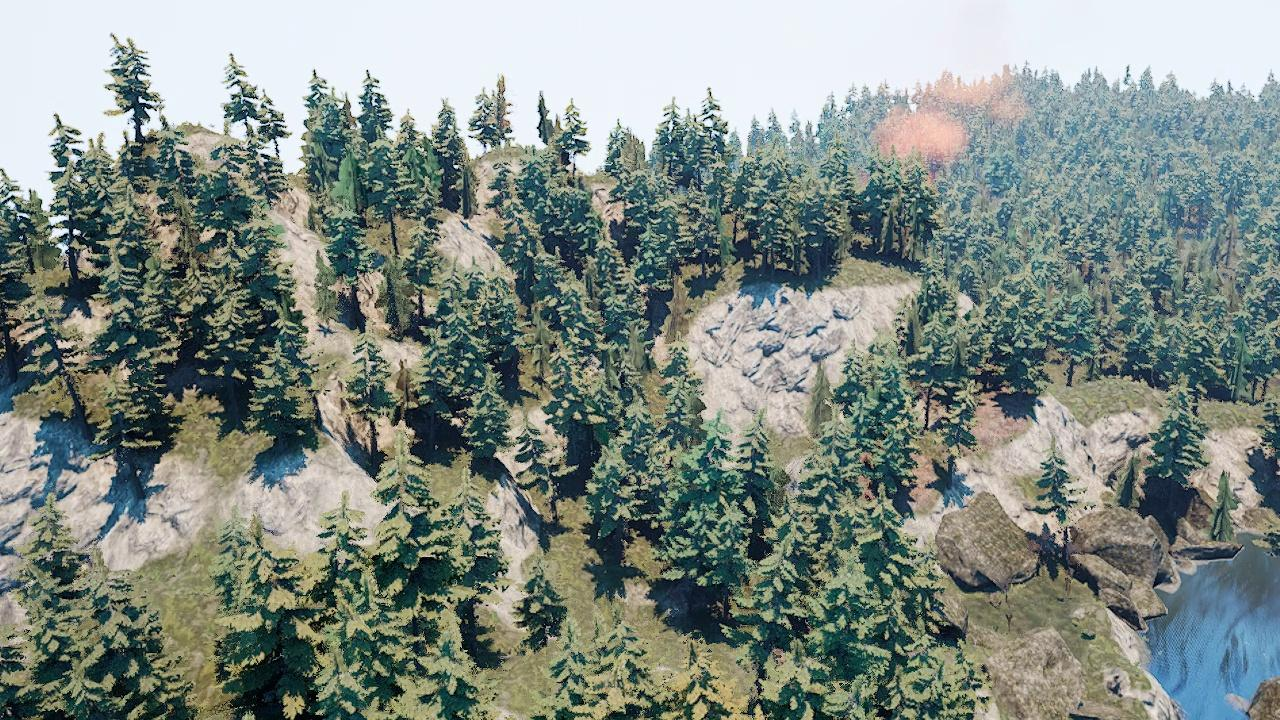smoke: (875, 66, 1023, 167)
